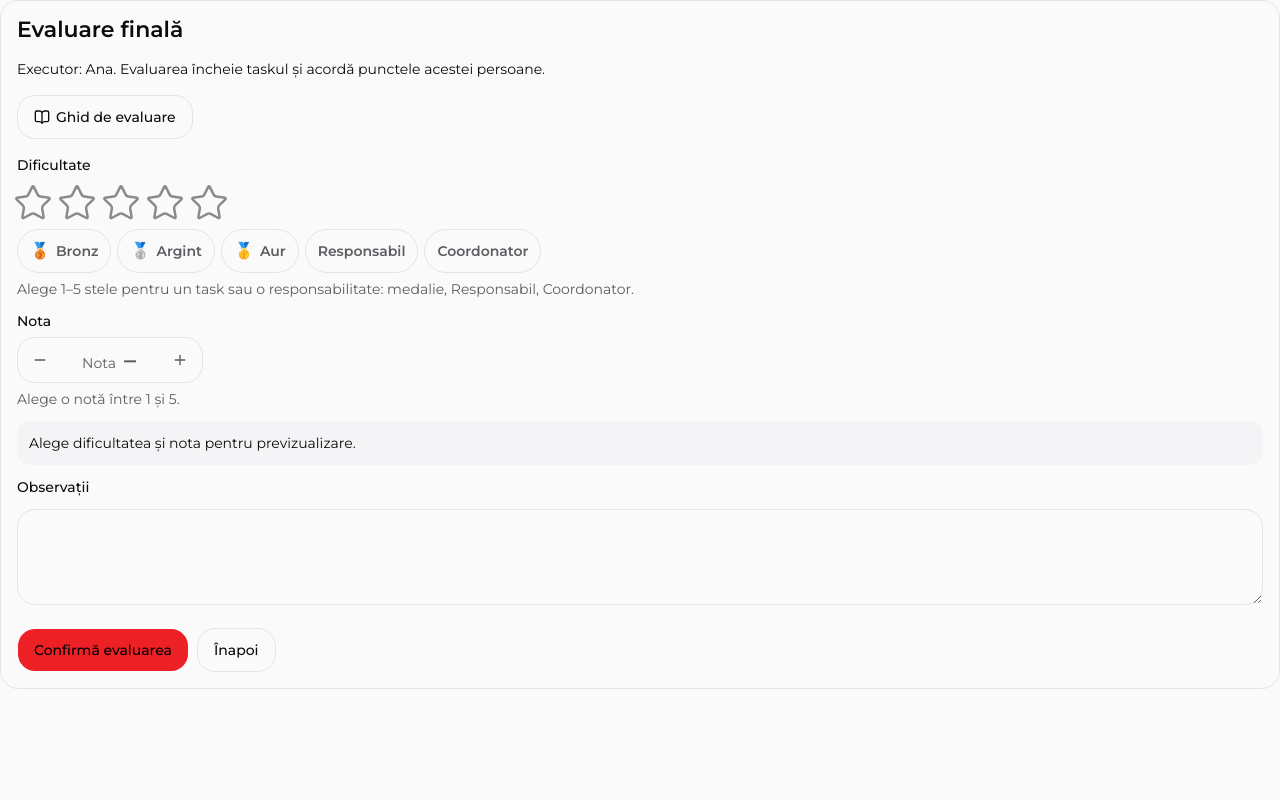
Scenario: refuses a missing choice under its control and focuses it
Step 1. Click the button "Confirmă evaluarea" → (103, 650), box [17,628,189,672]
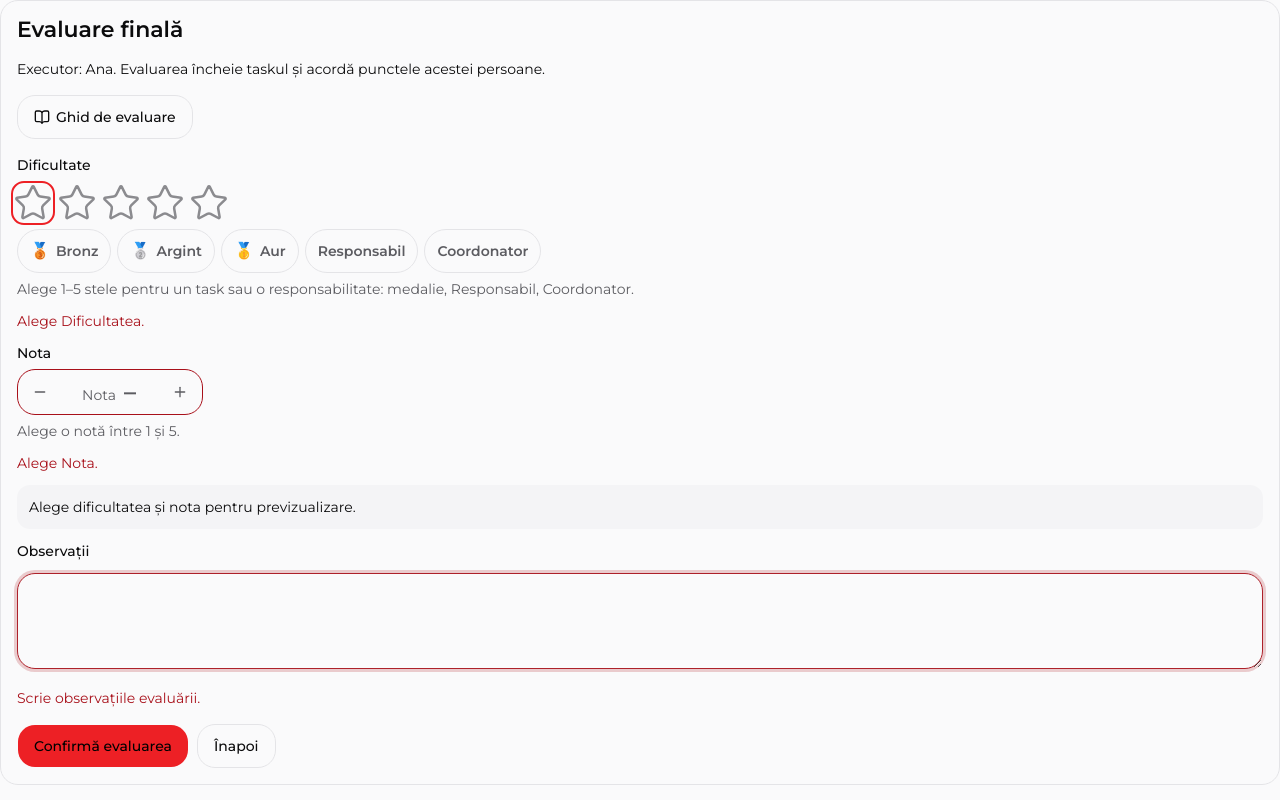
Now the text "Alege Dificultatea." is shown, box [17,312,144,330]
Now the text "Alege Nota." is shown, box [17,454,98,472]
